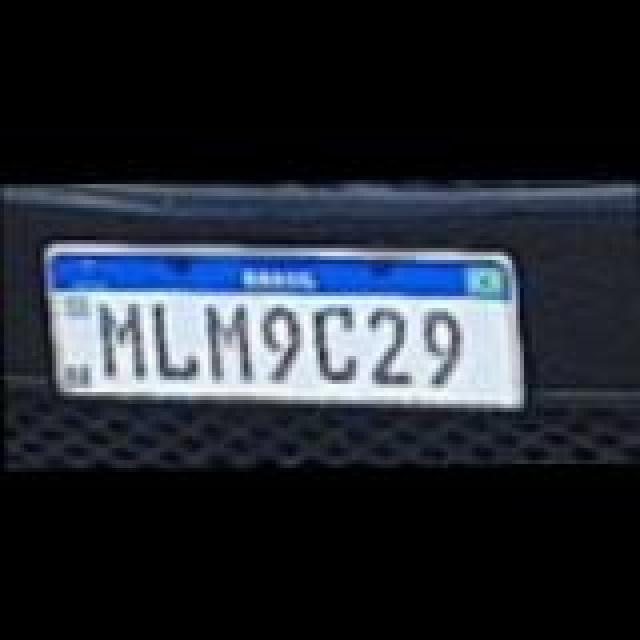2: (368, 304, 412, 384)
9: (260, 304, 304, 380), (422, 304, 462, 384)
C: (312, 302, 356, 382)
L: (156, 302, 200, 378)
M: (206, 300, 254, 380), (100, 296, 144, 376)
